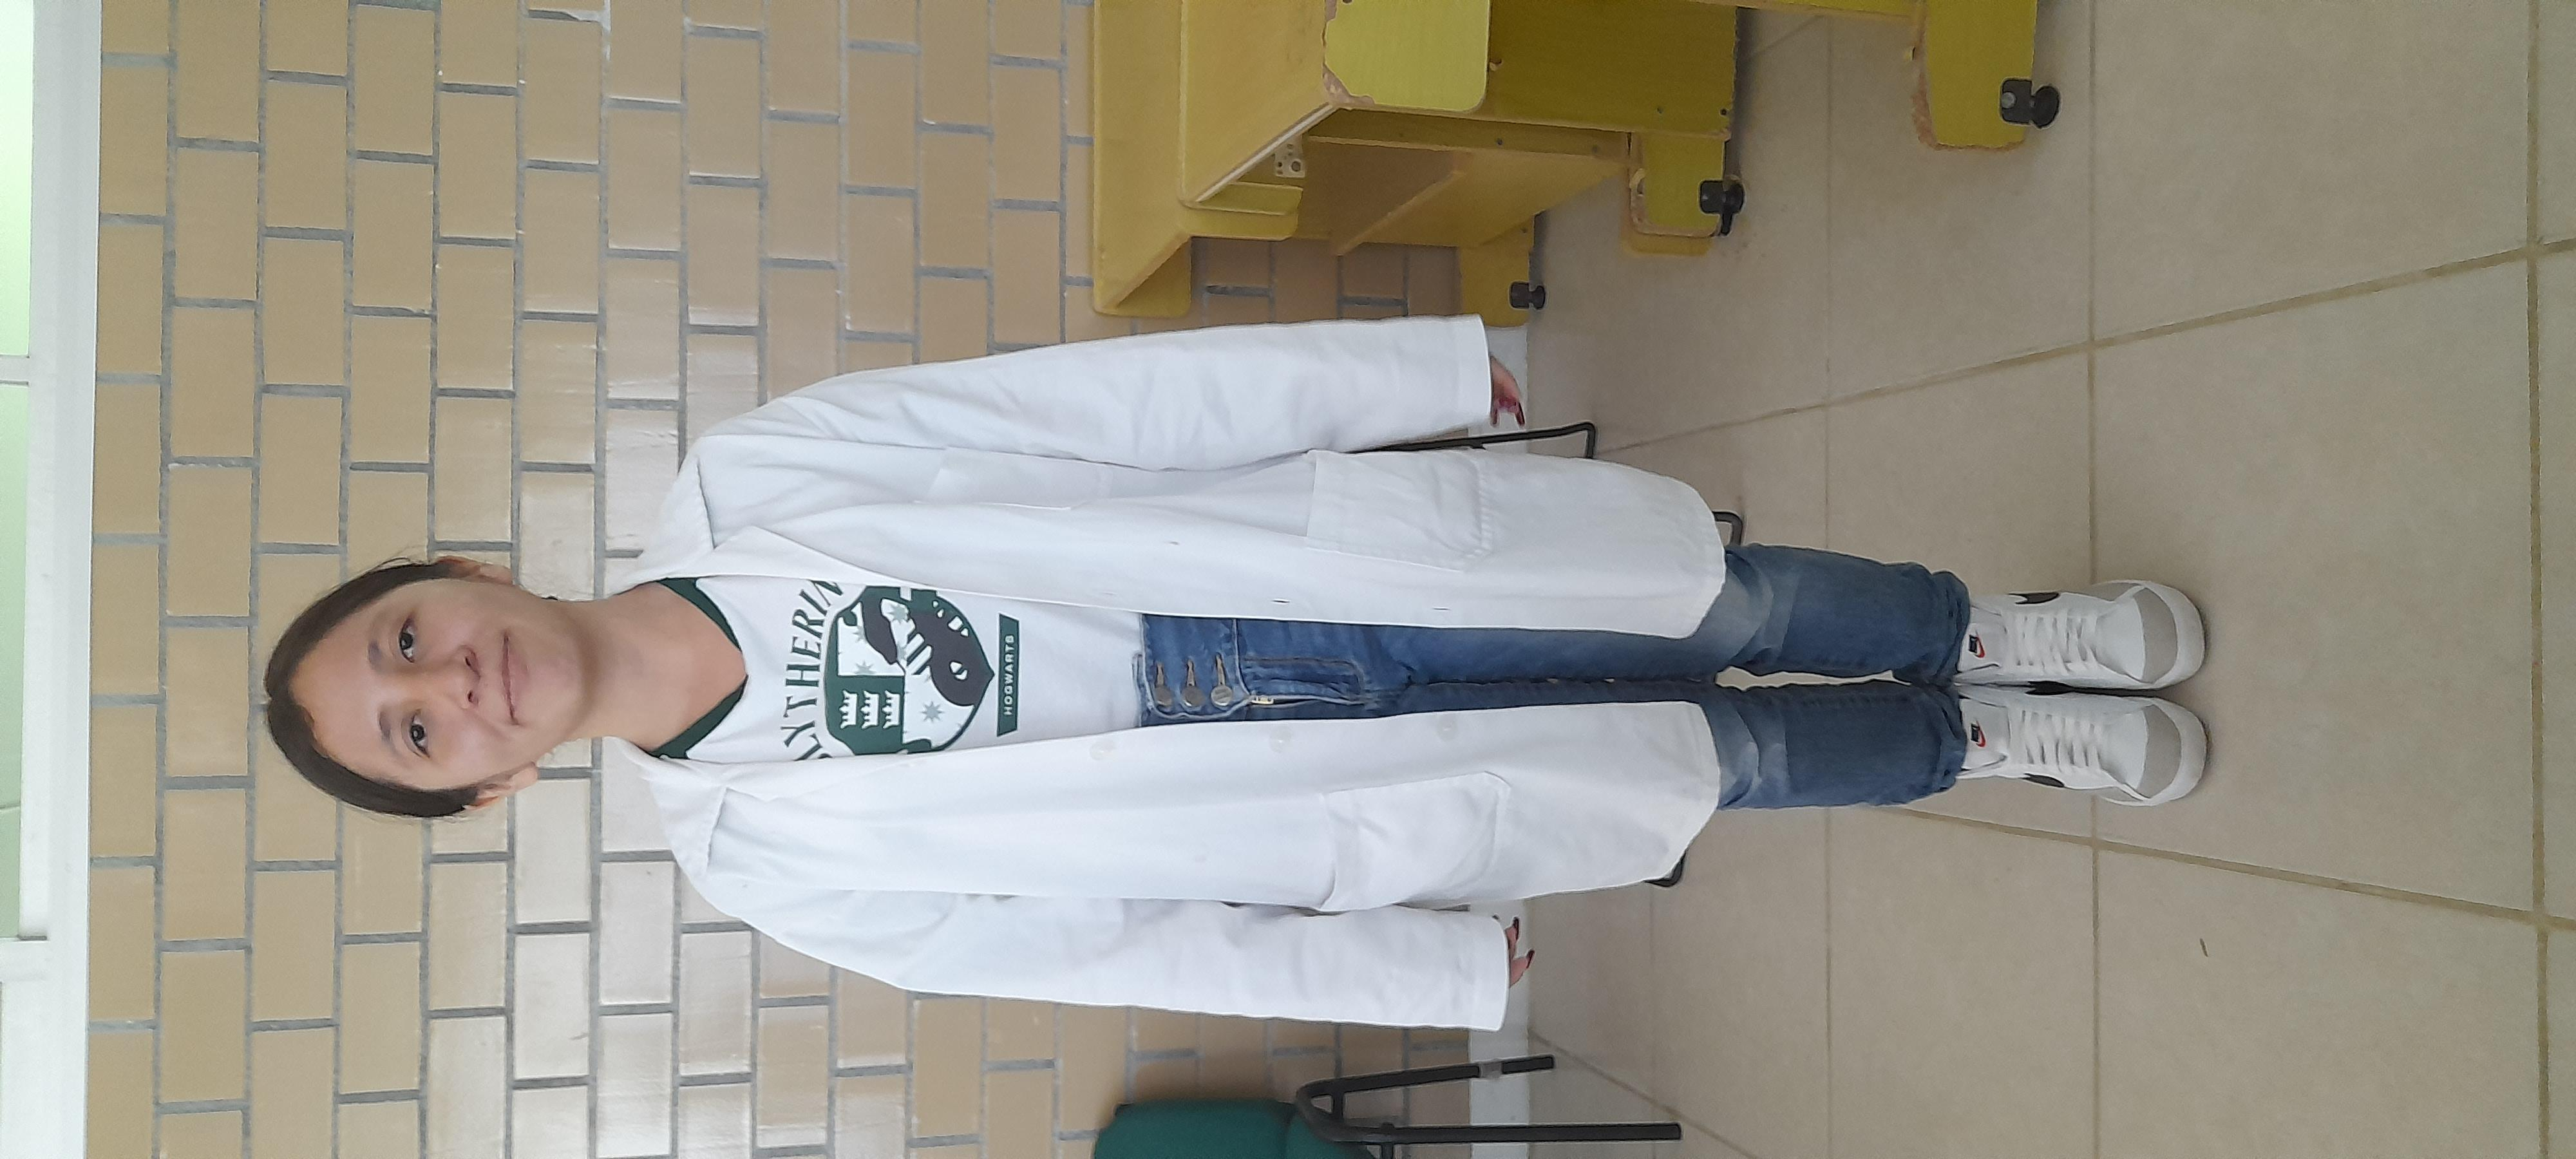Bata-Incorrecta: (286, 117, 1917, 1019)
